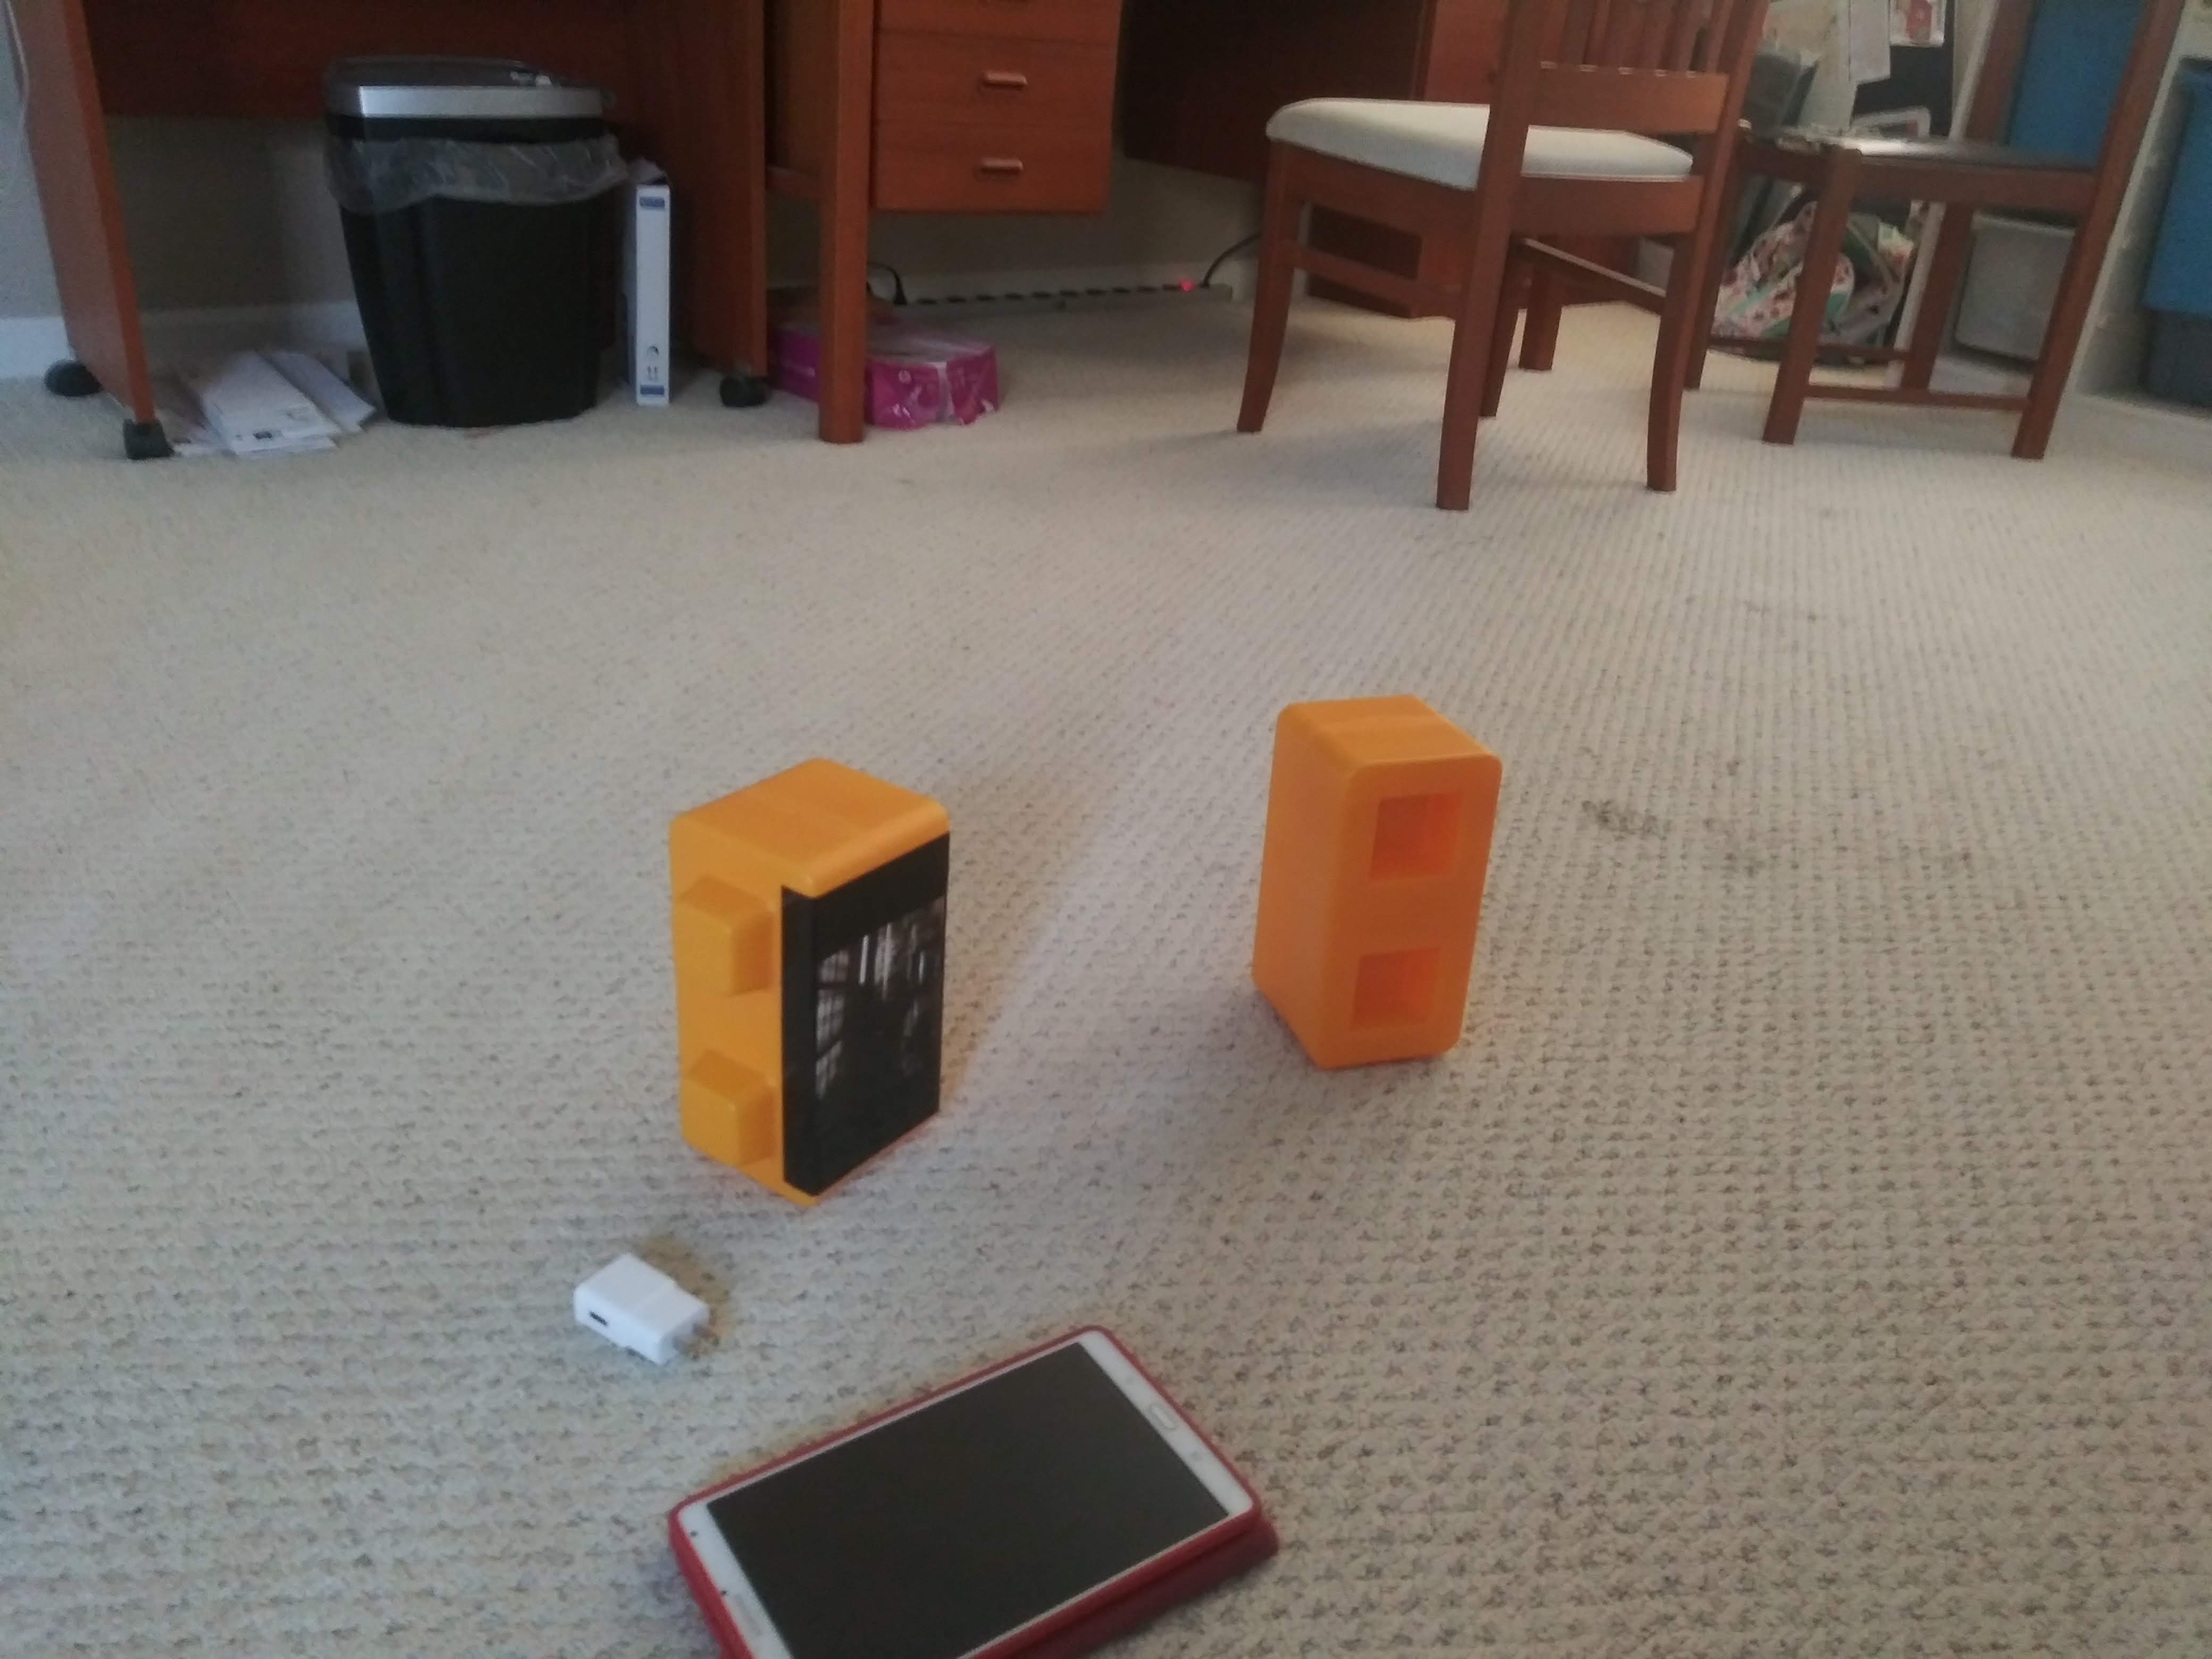skystone: (660, 788, 948, 1185)
stone: (1251, 706, 1498, 1073)
